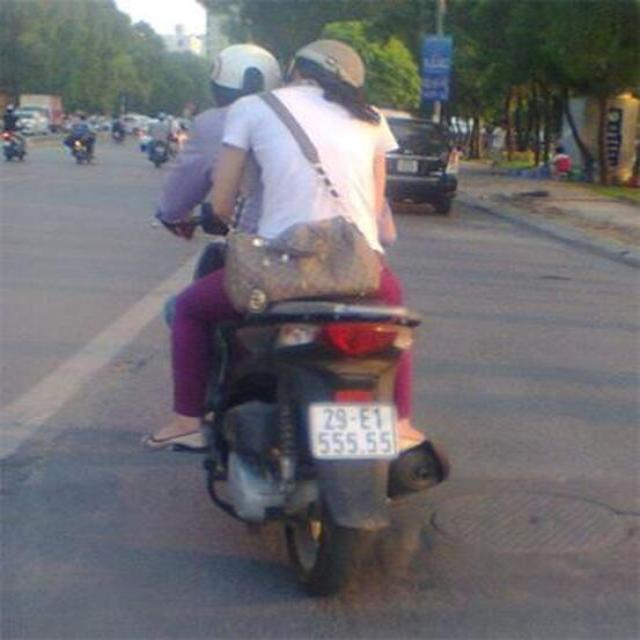motorcycle: (199, 258, 442, 594)
plate: (303, 397, 404, 466)
